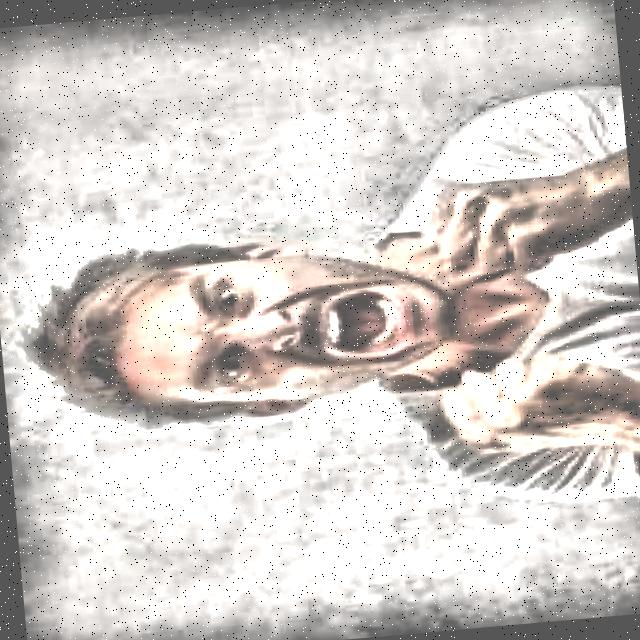angry: (61, 217, 464, 423)
